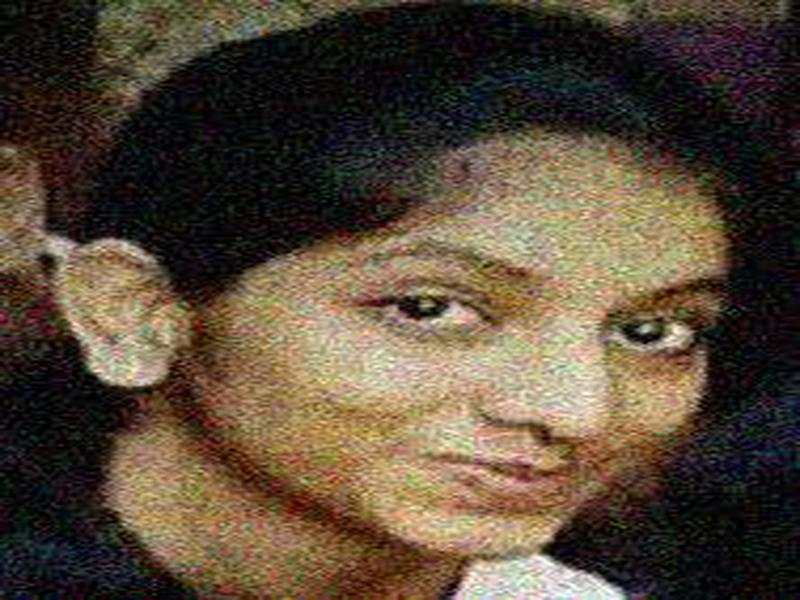without_mask: (212, 180, 731, 567)
